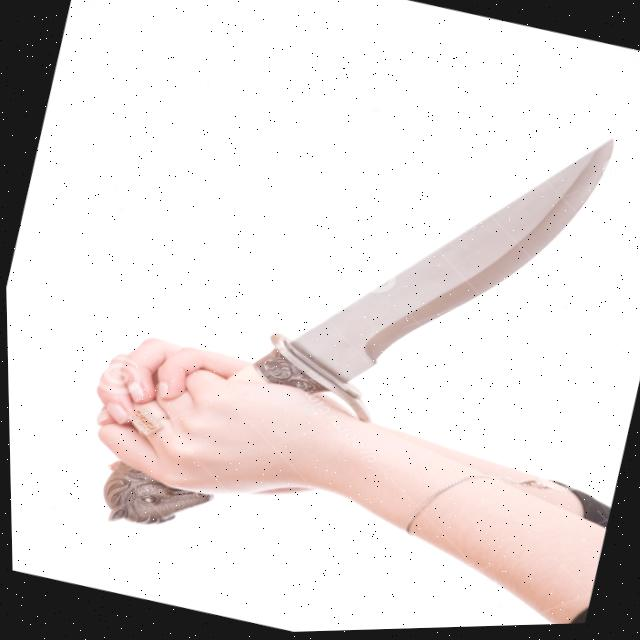knife: (239, 64, 629, 454)
